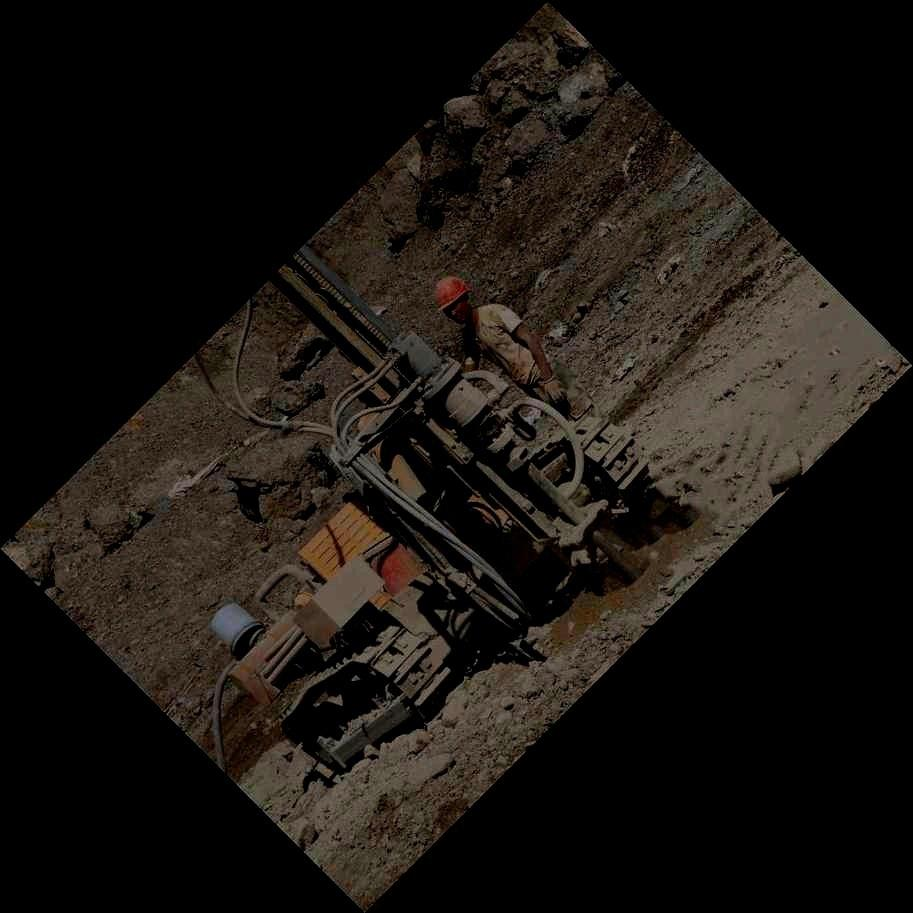helmet: (435, 275, 471, 324)
